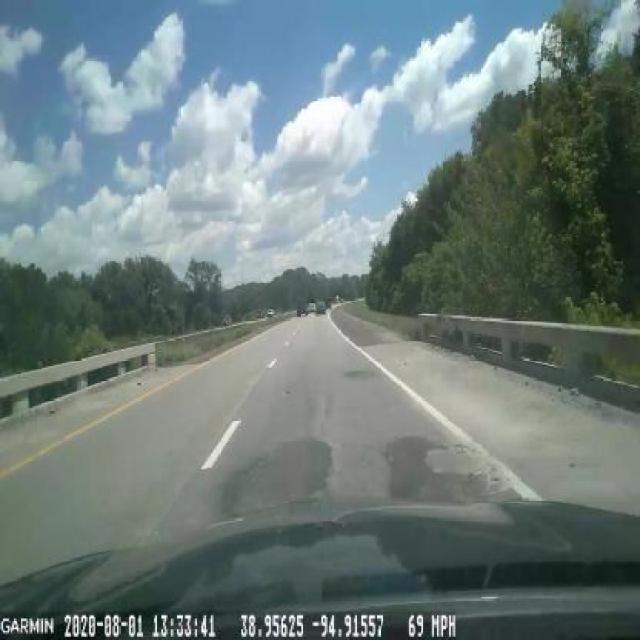Pothole: (386, 424, 528, 498), (222, 434, 338, 512), (339, 362, 379, 386)
